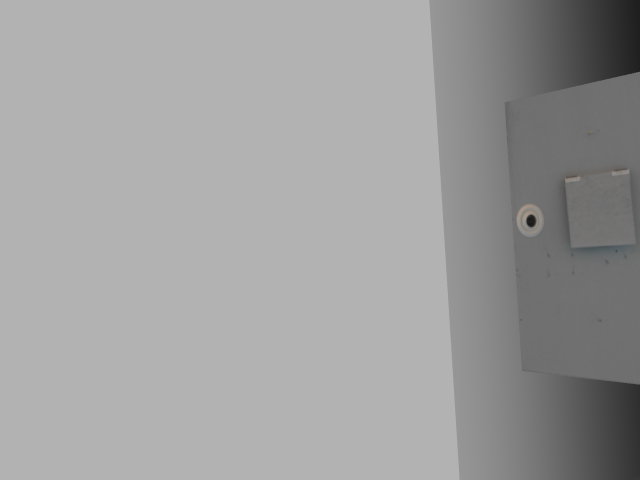facade: (511, 168, 638, 250)
